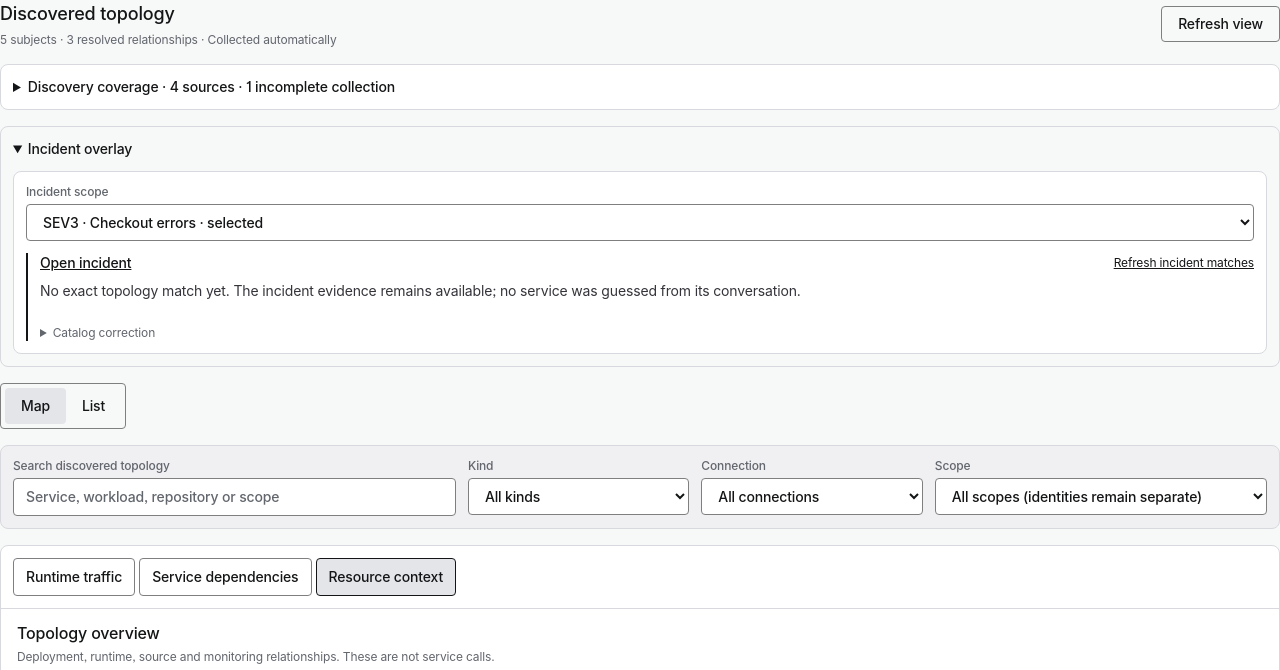
it: an incident deep link opens discovery incident scope and its affected-service editor
Check: the dropdown labelled "Incident scope" shows "SEV3 · Checkout errors · selected", box [26,204,1254,241]
Click the heading "Catalog correction" at (104, 332), box [53,325,155,340]
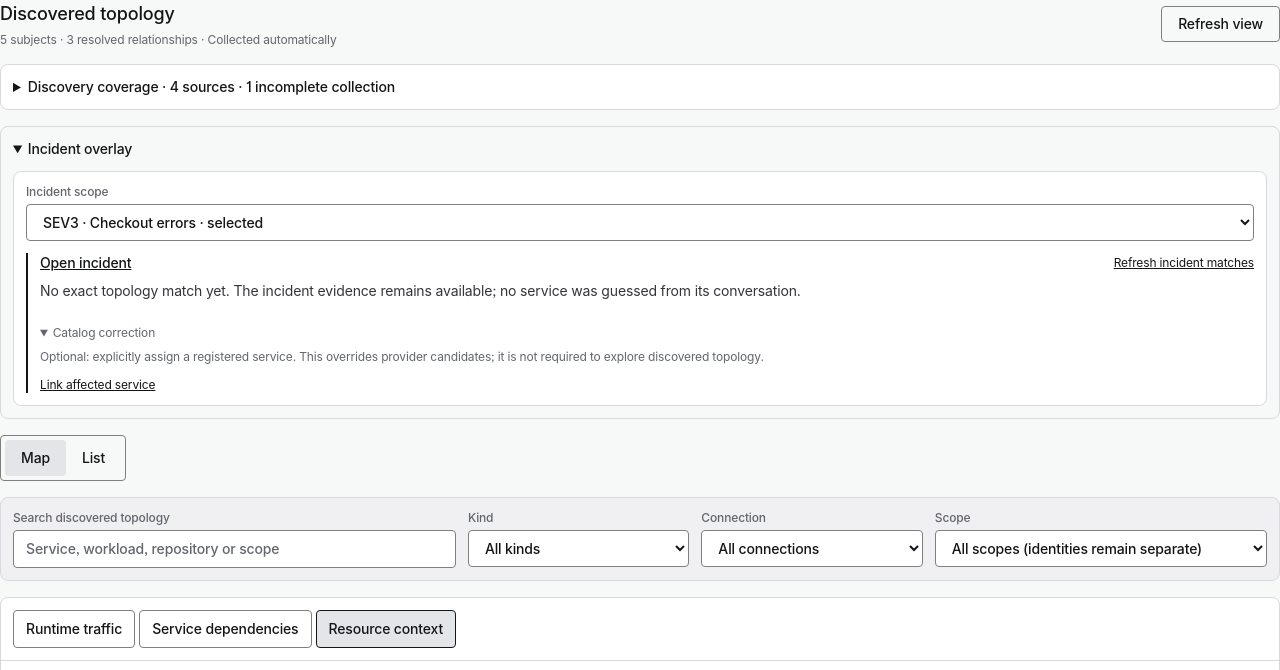
Click the button "Link affected service" at (98, 385), box [40,377,155,393]
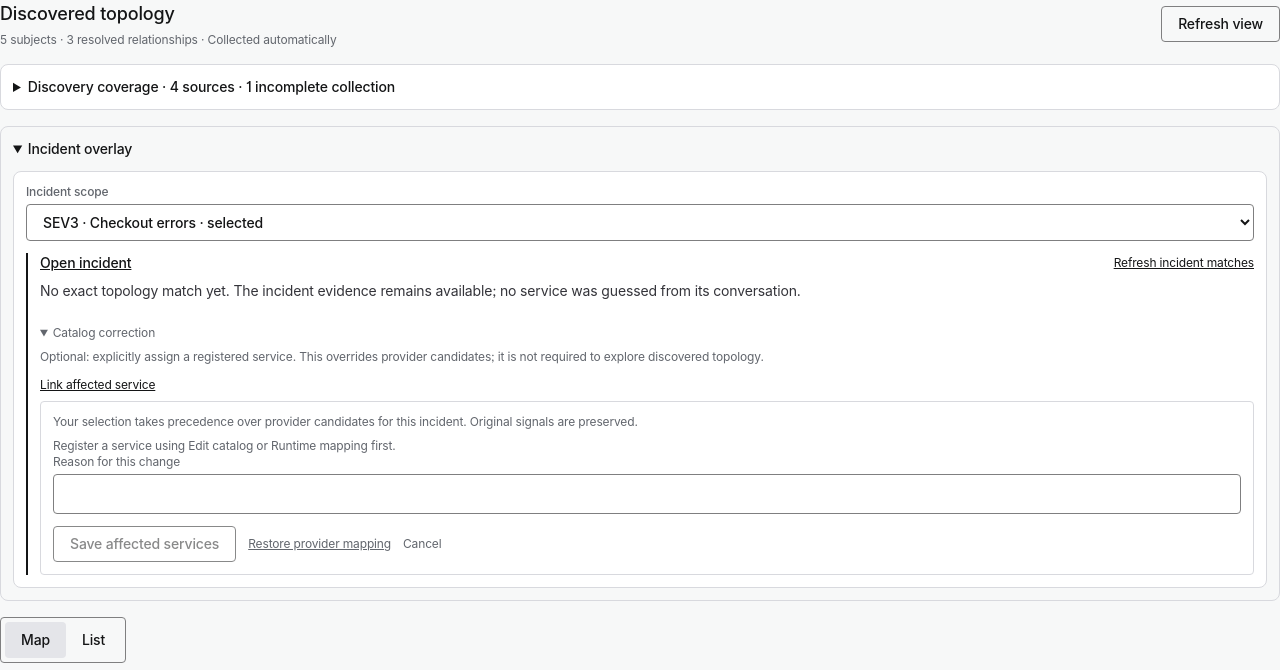
Check: the button "Save affected services" is shown, box [53,526,236,562]
